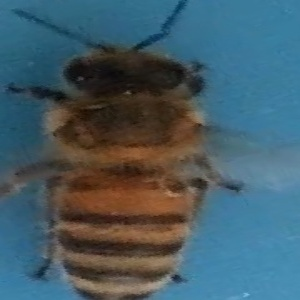bee: (8, 5, 290, 300)
